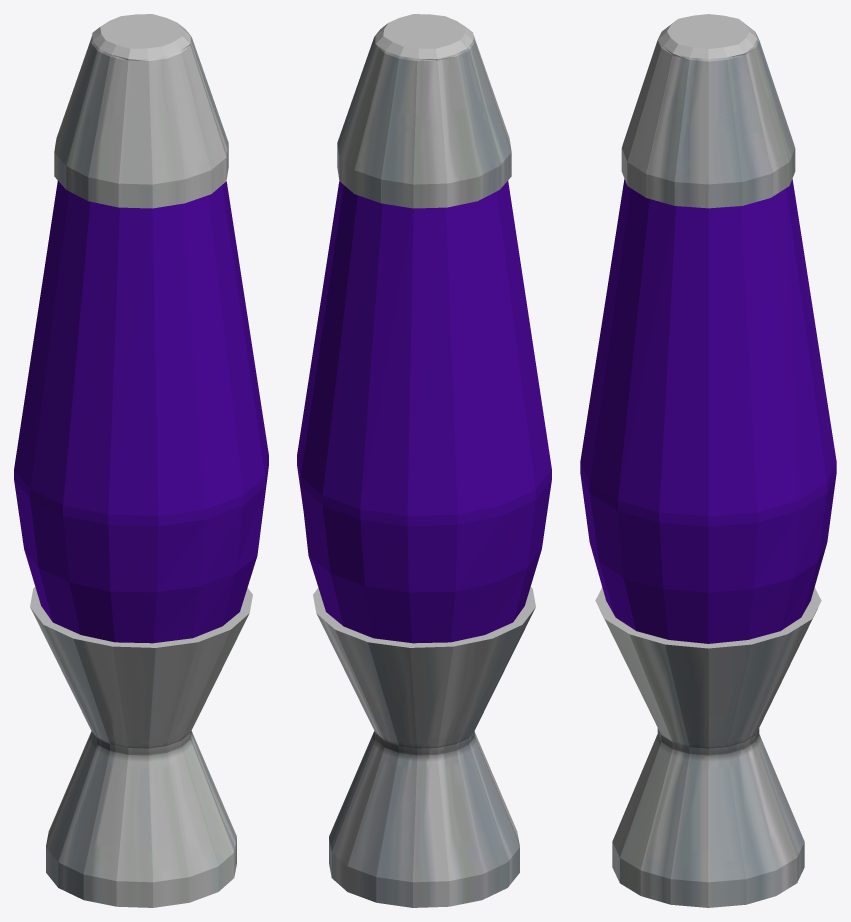
The model's file is Gift Shop Lamp.obj.
3 renders of one model, left to right at view 1: azimuth 30°, elevation 25°; view 2: azimuth 150°, elevation 25°; view 3: azimuth 270°, elevation 25°, orthographic.
Parts seen in each view (by area): view 1: Mesh_0974.rip_Tex_024, Mesh_0694.rip_Tex_026; view 2: Mesh_0974.rip_Tex_024, Mesh_0694.rip_Tex_026; view 3: Mesh_0974.rip_Tex_024, Mesh_0694.rip_Tex_026.
Part boxes in pixels (x1,y1,x2,y2): Mesh_0974.rip_Tex_024: (14, 180, 268, 643); Mesh_0694.rip_Tex_026: (30, 14, 252, 907); Mesh_0974.rip_Tex_024: (297, 180, 551, 643); Mesh_0694.rip_Tex_026: (313, 14, 535, 907); Mesh_0974.rip_Tex_024: (580, 179, 836, 643); Mesh_0694.rip_Tex_026: (595, 14, 821, 907).
Size of the model in its own units: 0.136 by 0.489 by 0.136.
Materials: 8 (8 with a texture image).
